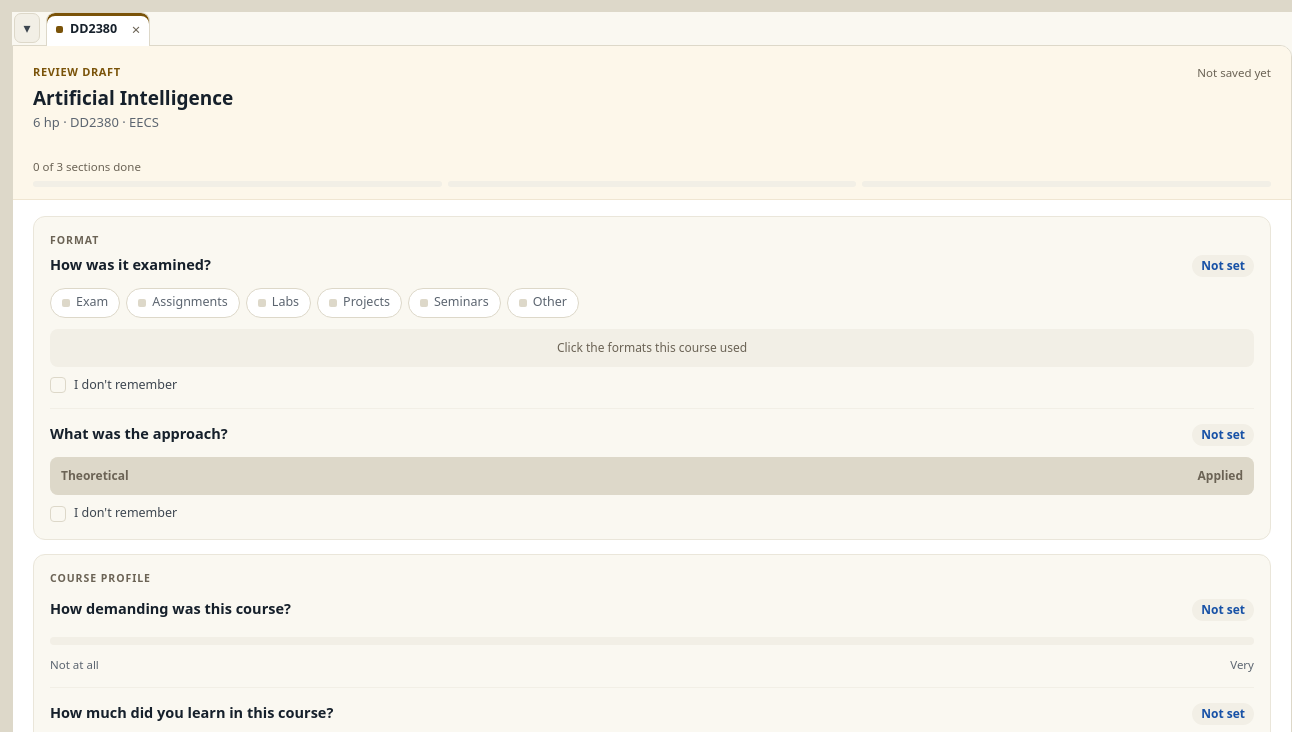
it: the review draft tab › splits the examination bar evenly as formats are picked
Check: the text "Click the formats this course used" is shown, box [557,338,747,356]
Click the button "Exam": (85, 302) [50,288,120,318]
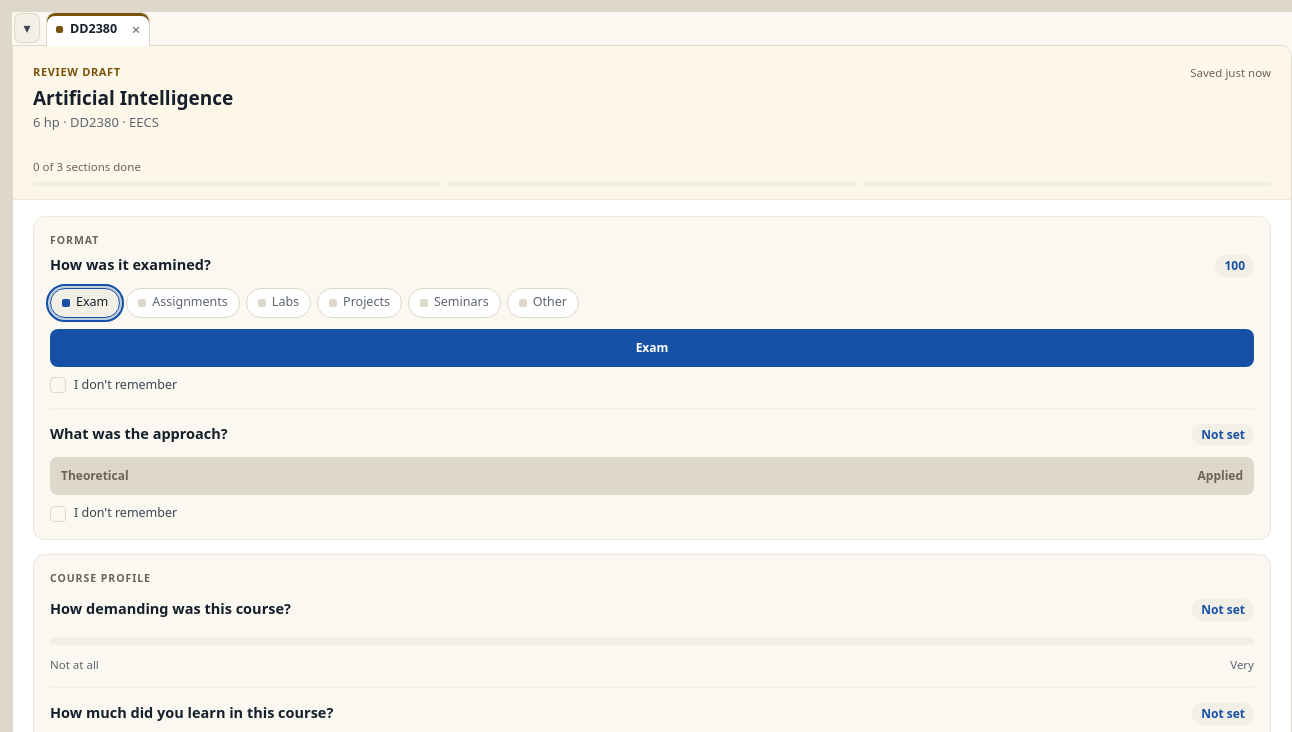
Click the button "Labs": (278, 302) [246,288,311,318]
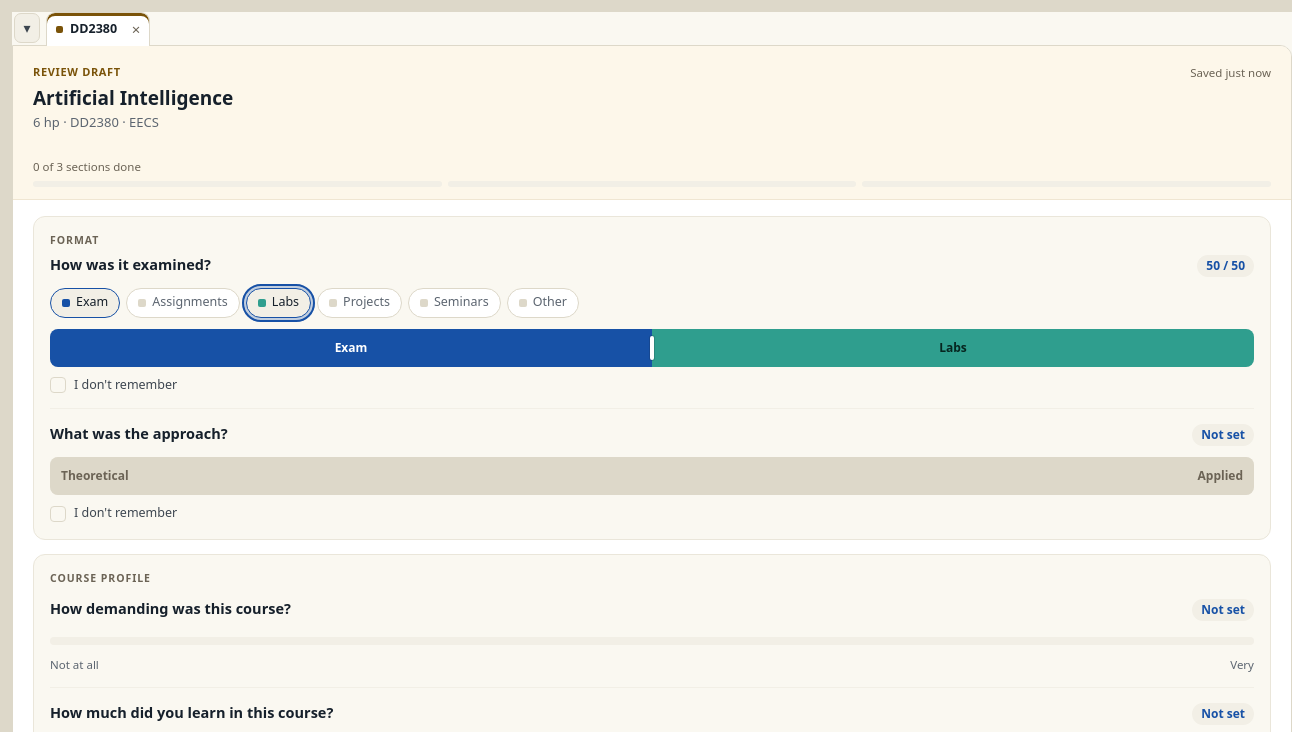
Check: the text "50 / 50" is shown, box [1197,254,1254,276]
